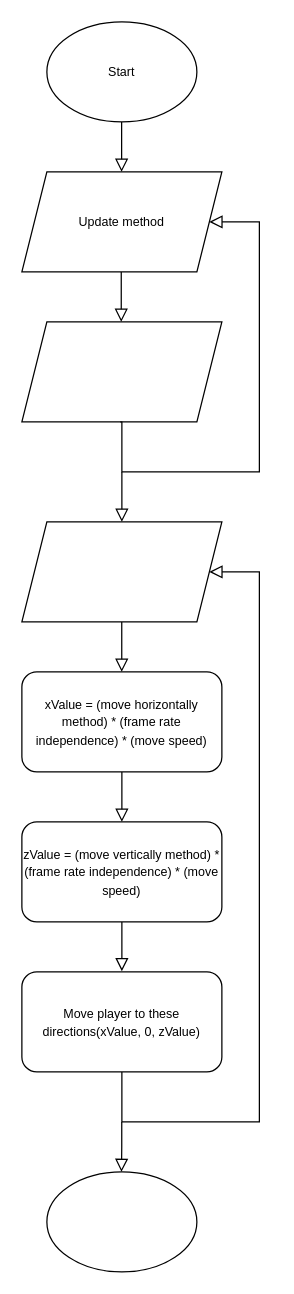
The diagram is 294 pixels wide and 1294 high, and some of its shapes have lost their labels. The centre of each missing label's shape, as x and y in pixels:
"Calling of MovePlayer method" goes at [121,371].
"Declaration of MovePlayer method" goes at [121,571].
"End" goes at [121,1221].
